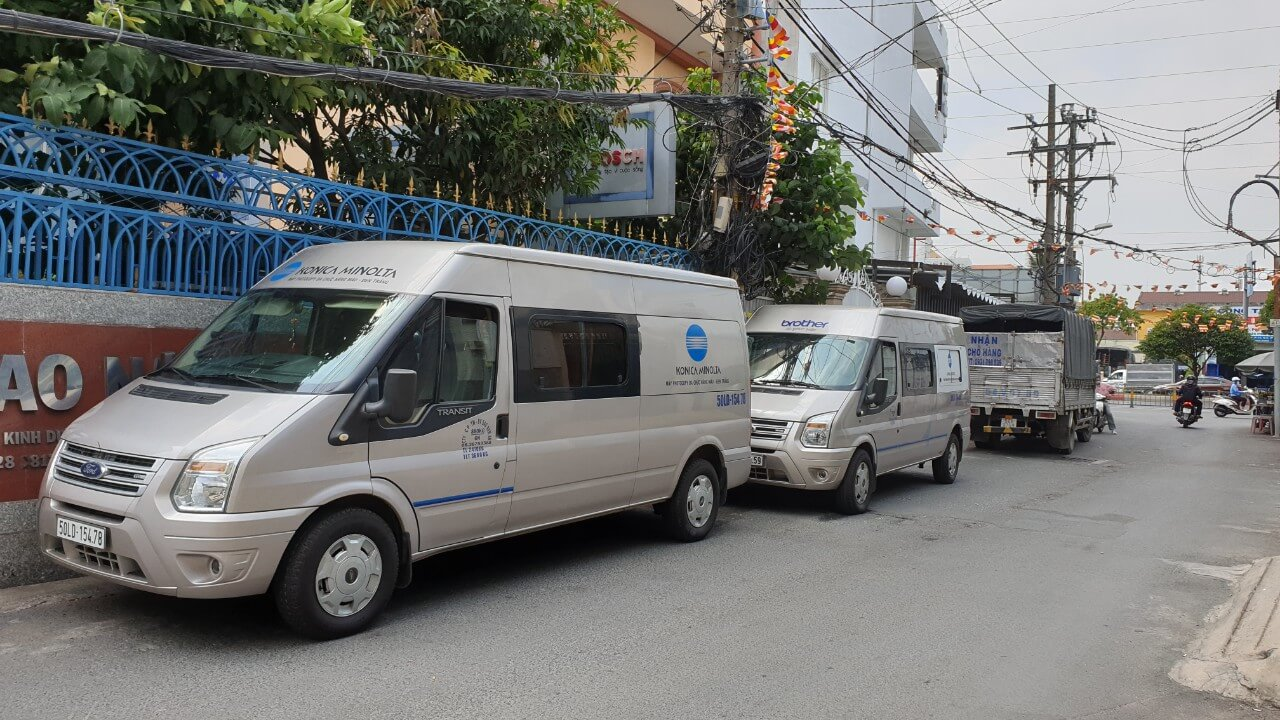xe_tai: (964, 310, 1110, 455)
xe_van: (37, 235, 759, 642), (747, 304, 969, 514)
